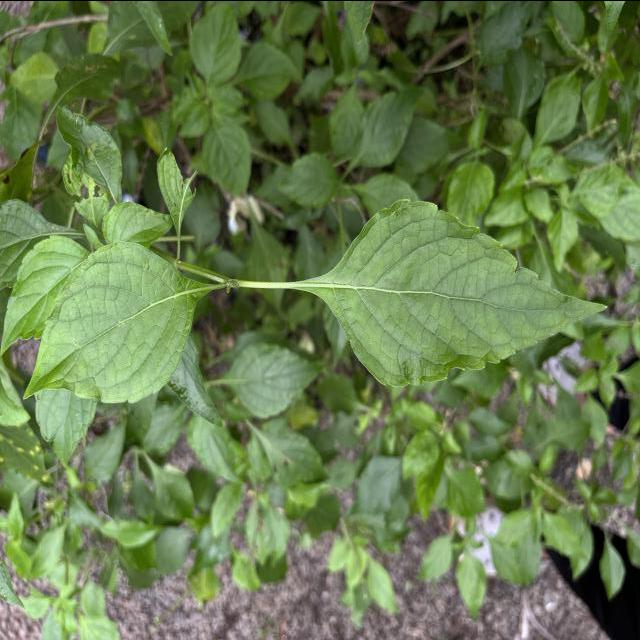Ocimum gratissimum: (280, 192, 611, 390), (19, 236, 222, 407)
